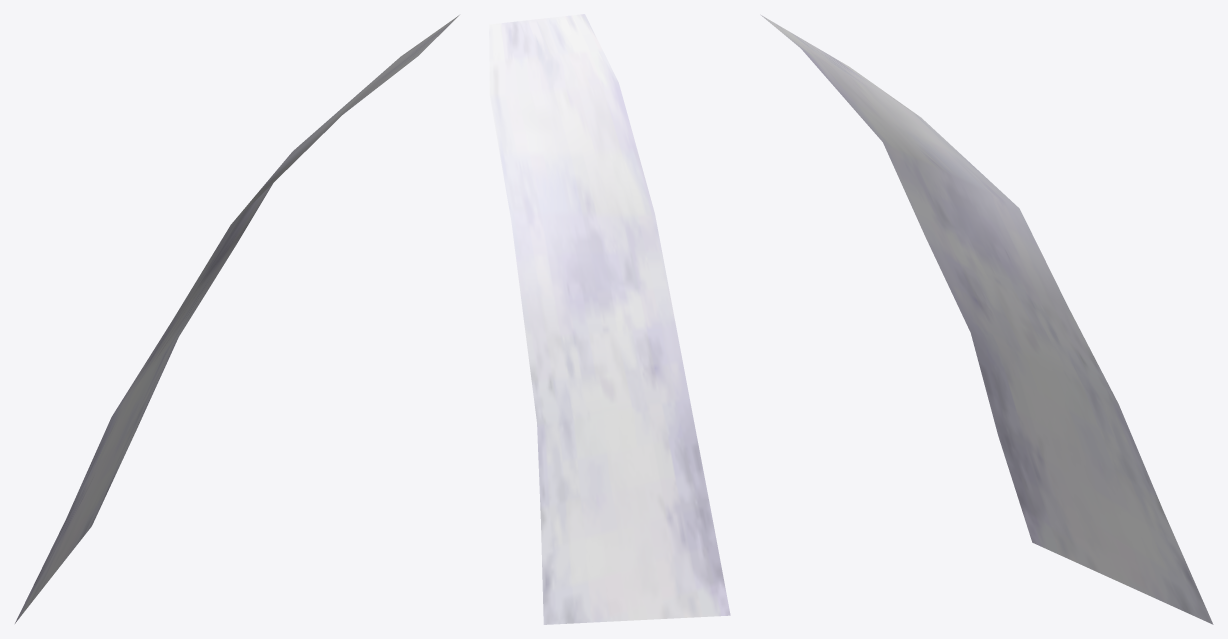
The model's file is OM_p_a_river_08f_00_17_0_12.fbx.
3 views of the same model, side by side, from view 1: azimuth 30°, elevation 25°; view 2: azimuth 150°, elevation 25°; view 3: azimuth 270°, elevation 25° (orthographic). The views are drawn at different scales.
Parts seen in each view (by area): view 1: OM_p_a_river_08f_00_17_0_12; view 2: OM_p_a_river_08f_00_17_0_12; view 3: OM_p_a_river_08f_00_17_0_12.
Boxes of the visible parts, x1=… form: OM_p_a_river_08f_00_17_0_12: x1=15, y1=15, x2=459, y2=623; OM_p_a_river_08f_00_17_0_12: x1=489, y1=14, x2=730, y2=624; OM_p_a_river_08f_00_17_0_12: x1=760, y1=14, x2=1213, y2=624.
Size of the model in its own units: 4.85 by 7.26 by 4.27.
Materials: 1 (1 with a texture image).
